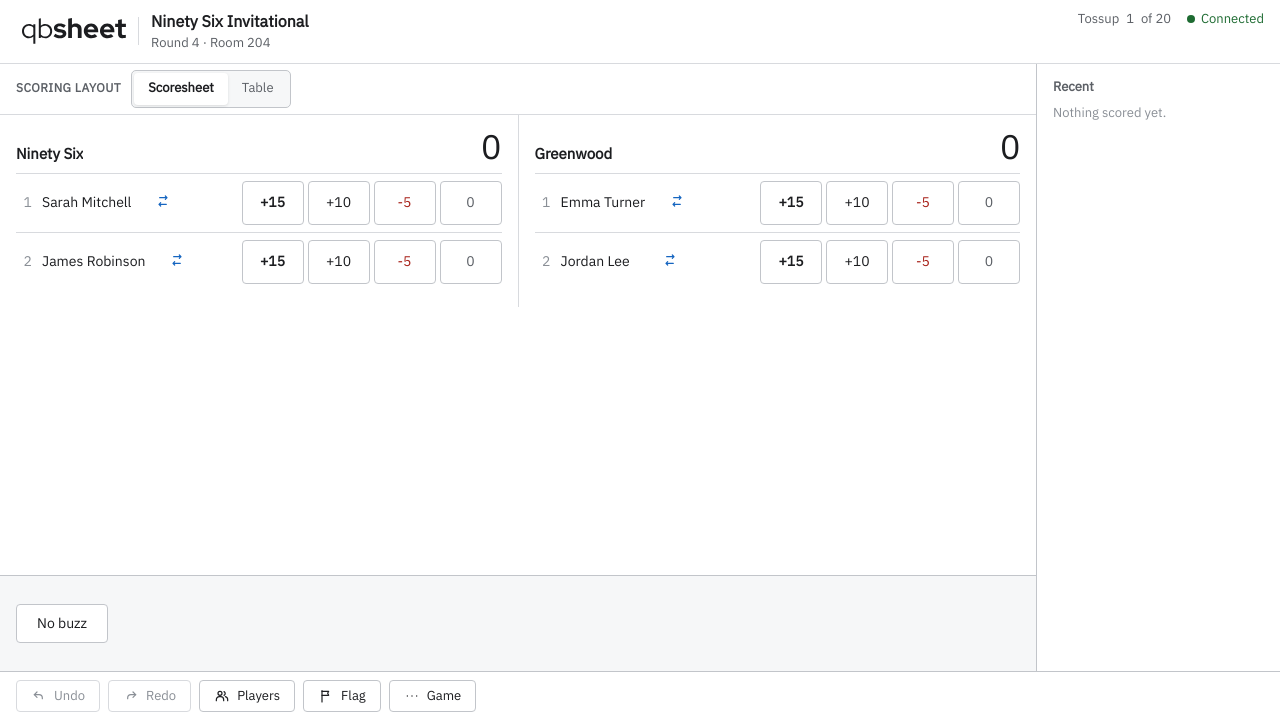
it: the Game menu entry › it opens the arcade picker, with both games in it
The width and height of the screenshot is (1280, 720).
Click the button "Game". click: (432, 696)
box: [389,680,476,712]
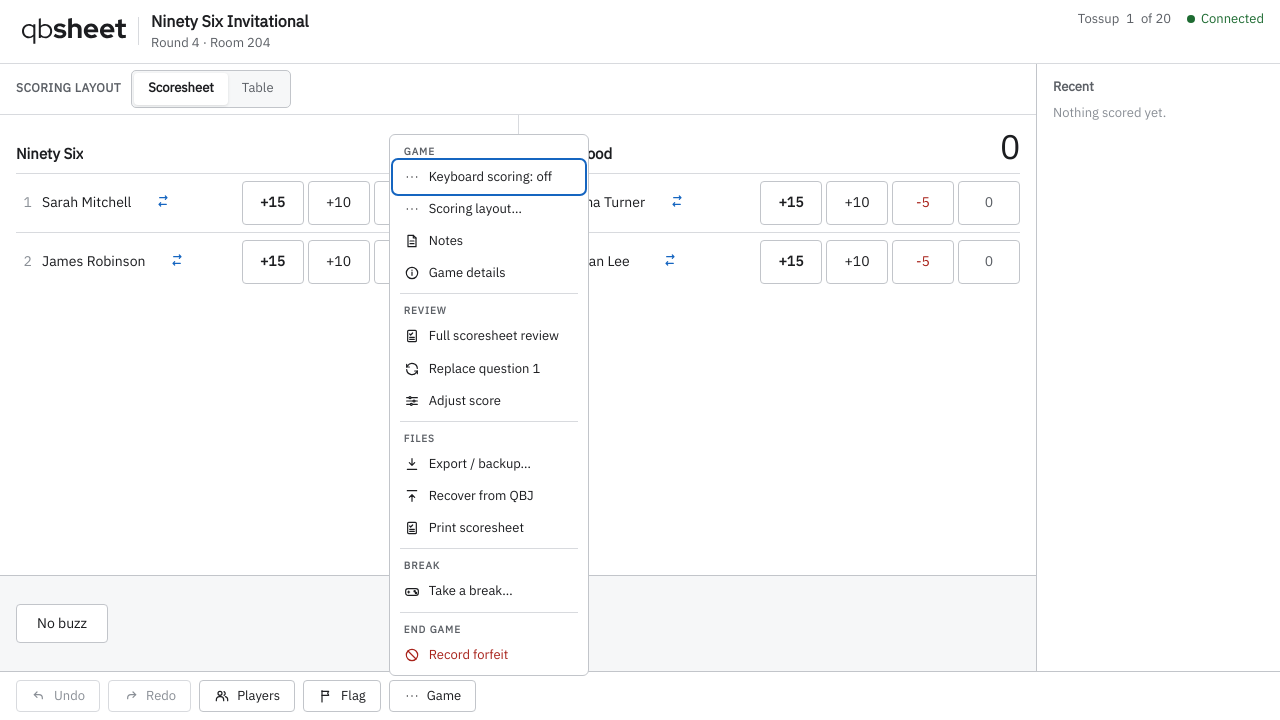
Click the menu item "Take a break…". click: (489, 592)
box: [394,575,584,608]
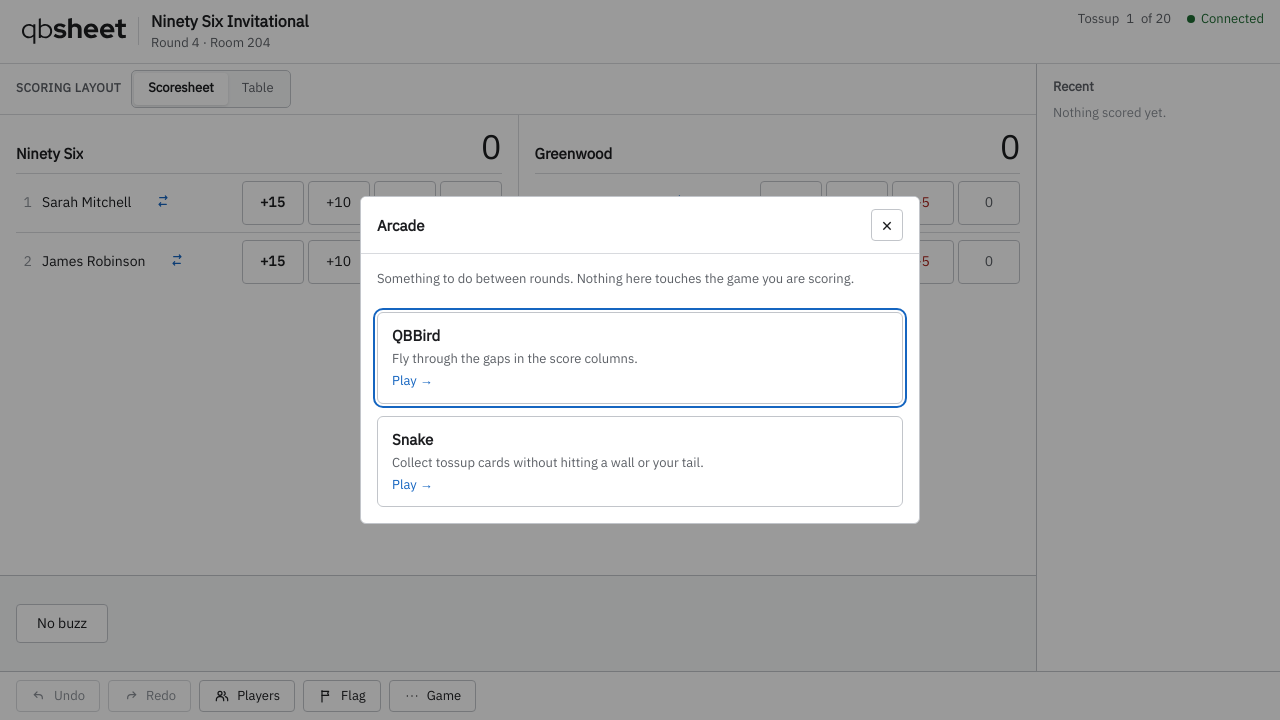
Expected: the heading "Arcade" is shown, [377,214,424,236]
Expected: the button "QBBird Fly through the gaps in the score columns. Play →" is shown, [377,312,903,404]
Expected: the button "Snake" is shown, [377,416,903,507]
